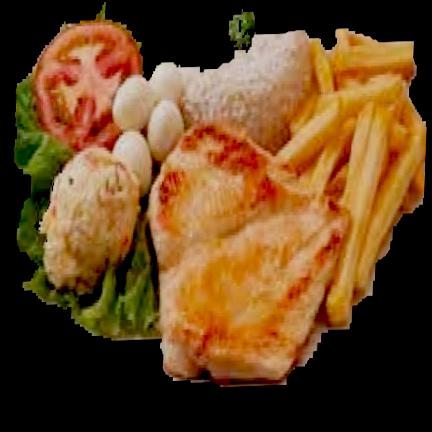chicken: (148, 124, 350, 381), (149, 123, 347, 382)
egg: (111, 62, 184, 198)
potato: (273, 30, 427, 333), (291, 30, 427, 324)
rice: (180, 30, 310, 152), (182, 34, 311, 153)
salad: (18, 10, 163, 334), (14, 73, 157, 339)
tomato: (33, 20, 142, 151)
